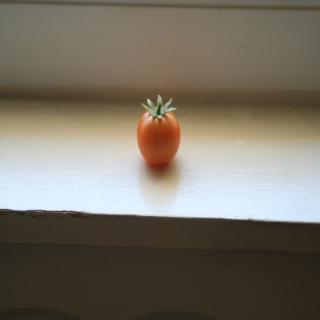tomato: (136, 92, 182, 166)
